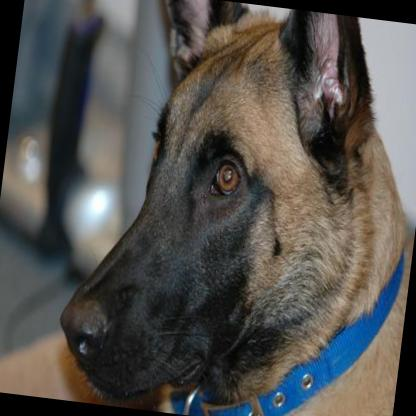malinois: (47, 0, 416, 416)
